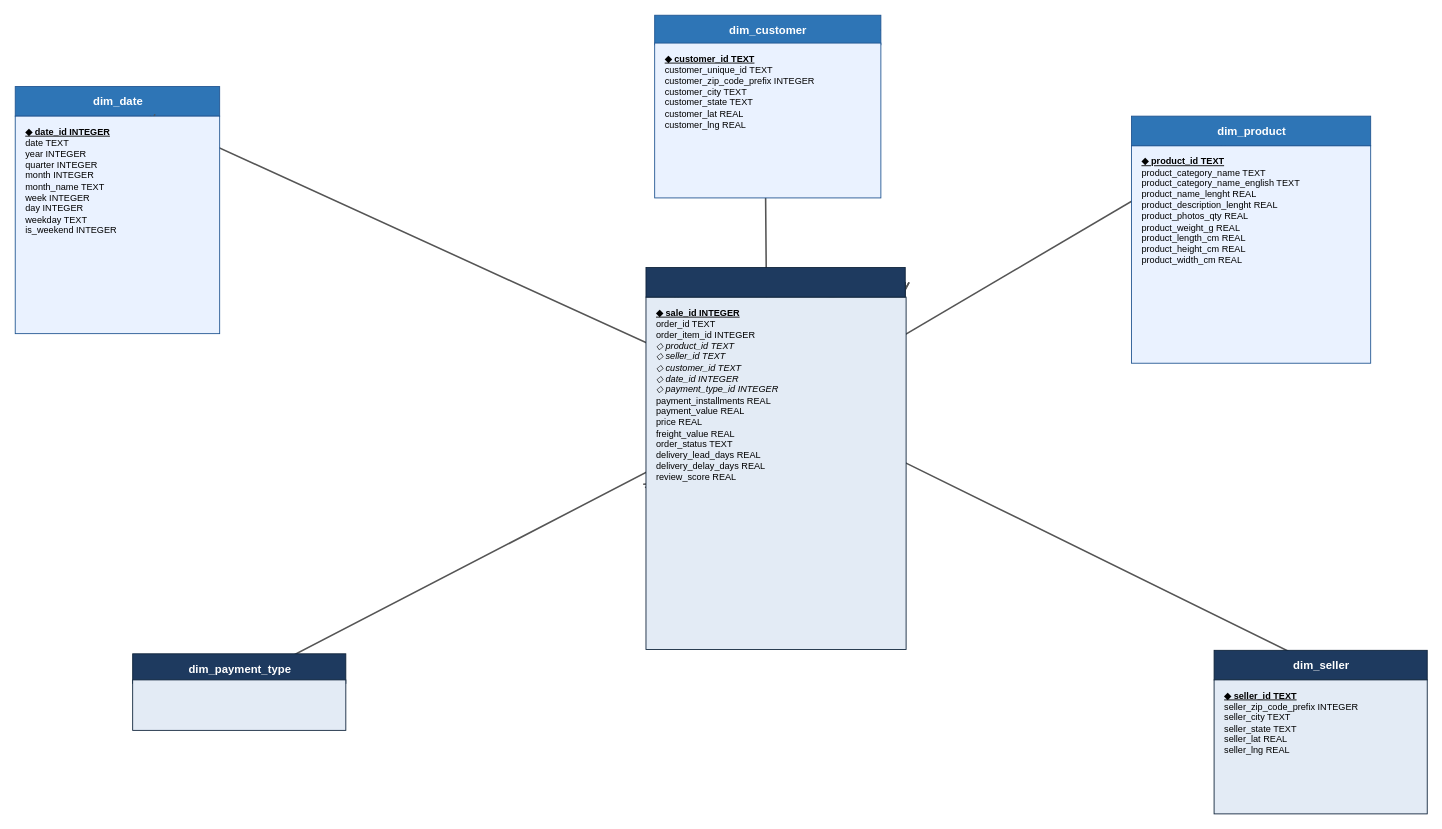
This 1442x829 diagram has some shape labels left out. The shapes that lost their labels are listed below. From the top down, each one's centre as x and y in pixels, then its label:
the point at 775,282: fact_sales
the point at 239,704: ◆ payment_type_id INTEGER payment_type TEXT
